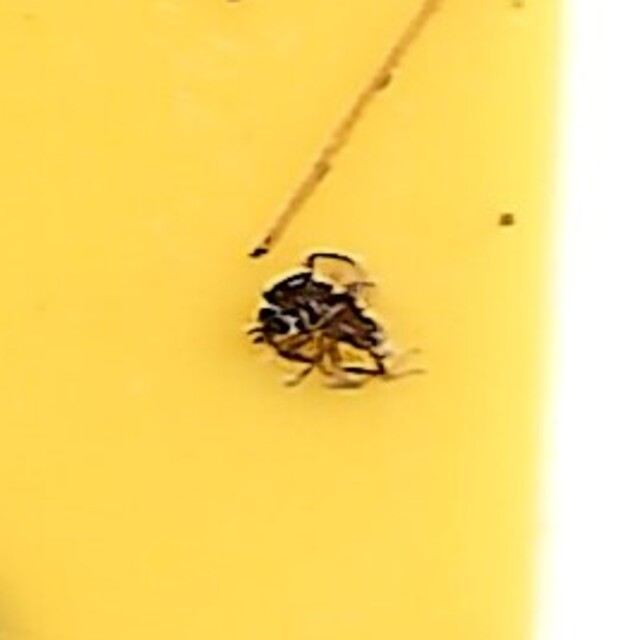Brachycera: (240, 237, 400, 403)
